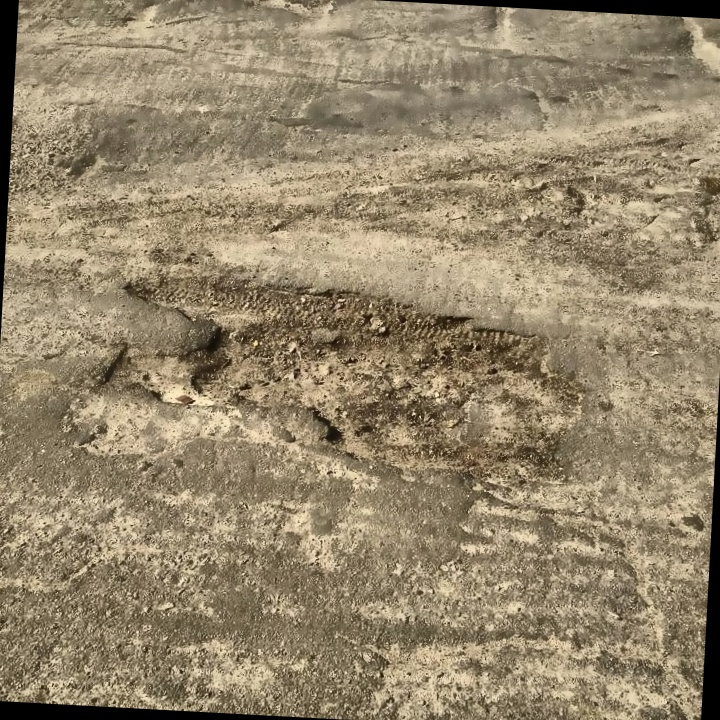pothole: (96, 259, 596, 492)
